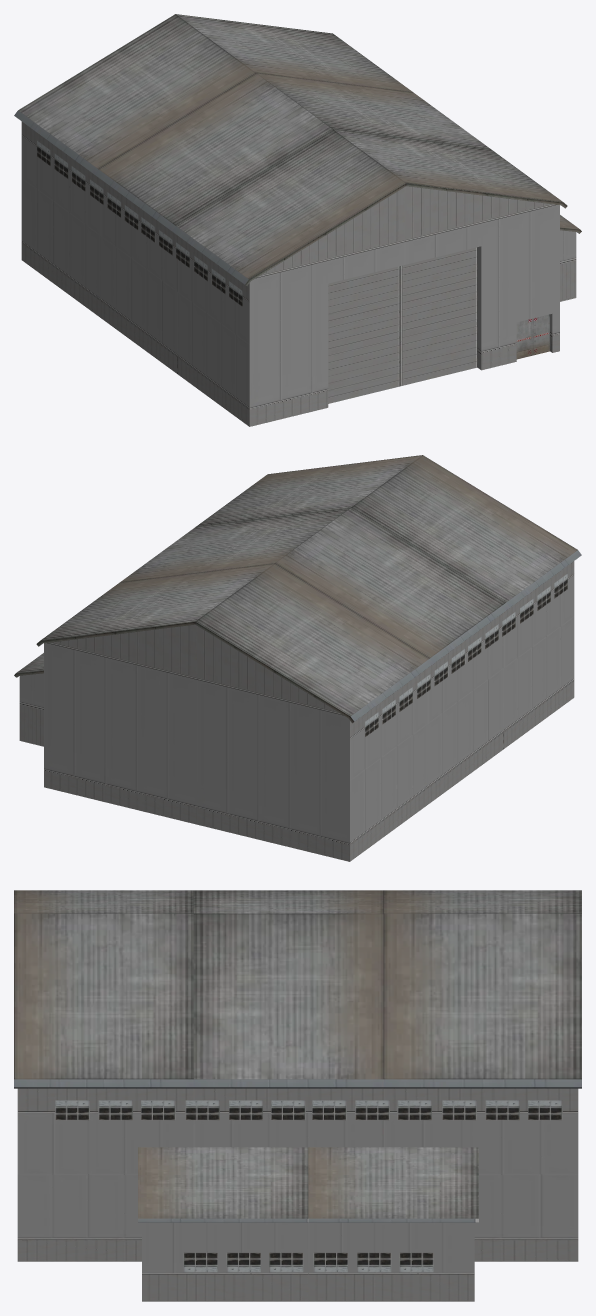
The model's file is ind-warehouse-3.lod0.glb.
The picture shows the model from 3 angles, top to bottom: view 1: azimuth 30°, elevation 25°; view 2: azimuth 150°, elevation 25°; view 3: azimuth 270°, elevation 25°; orthographic projection. The views are drawn at different scales.
Visible parts, largest first — view 1: Industrial_Warehouse_3_Industrial_Walls_FLR_4_0, Industrial_Warehouse_3_Industrial_Trim_FLR_1_0; view 2: Industrial_Warehouse_3_Industrial_Walls_FLR_4_0, Industrial_Warehouse_3_Industrial_Trim_FLR_1_0; view 3: Industrial_Warehouse_3_Industrial_Trim_FLR_1_0, Industrial_Warehouse_3_Industrial_Walls_FLR_4_0.
Boxes of the visible parts, x1,y1,x2,y2 form: Industrial_Warehouse_3_Industrial_Walls_FLR_4_0: [14, 110, 581, 426]; Industrial_Warehouse_3_Industrial_Trim_FLR_1_0: [18, 14, 579, 359]; Industrial_Warehouse_3_Industrial_Walls_FLR_4_0: [14, 550, 581, 861]; Industrial_Warehouse_3_Industrial_Trim_FLR_1_0: [16, 455, 577, 737]; Industrial_Warehouse_3_Industrial_Trim_FLR_1_0: [14, 890, 581, 1272]; Industrial_Warehouse_3_Industrial_Walls_FLR_4_0: [14, 1079, 581, 1301].
Bounding box in the file's own units: 24.44 × 12.49 × 25.22.
2 materials, 2 textured.
